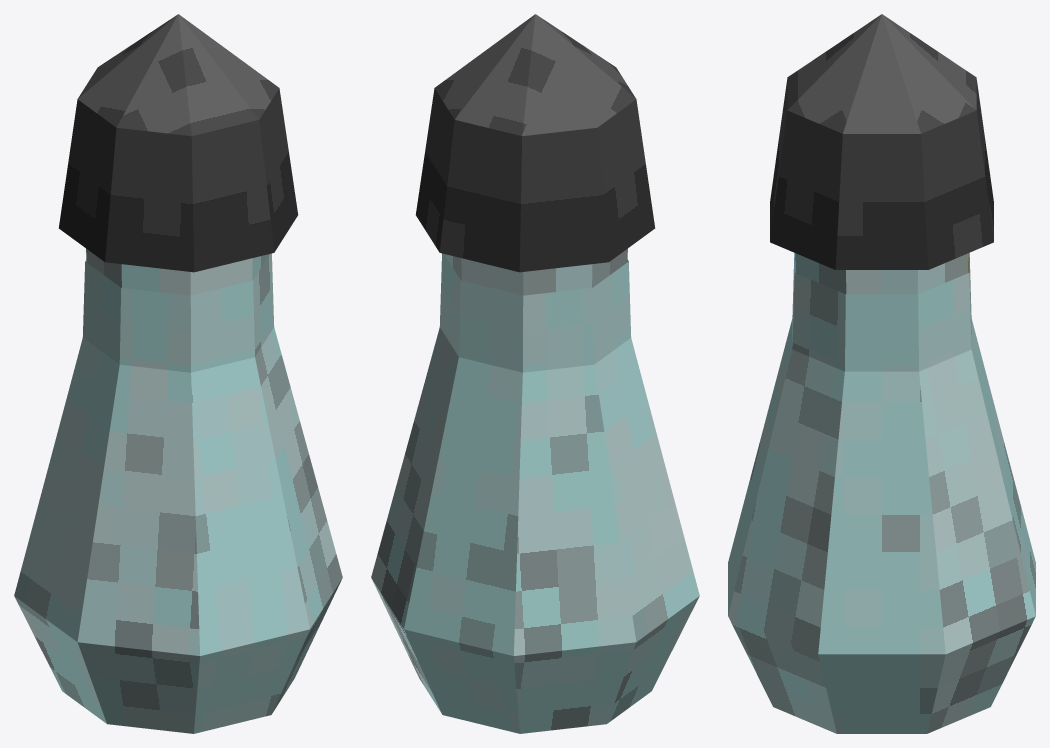
Rendered from Lamp.fbx.
3 views of the same model, side by side, from view 1: azimuth 30°, elevation 25°; view 2: azimuth 150°, elevation 25°; view 3: azimuth 270°, elevation 25° (orthographic).
Parts seen in each view (by area): view 1: sphere; view 2: sphere; view 3: sphere.
Part boxes in pixels (<box>): sphere: <box>14,14,342,733</box>; sphere: <box>371,14,699,733</box>; sphere: <box>728,14,1035,733</box>.
Bounding box in the file's own units: 25 × 64.06 × 25.
Materials: 1 (1 with a texture image).
